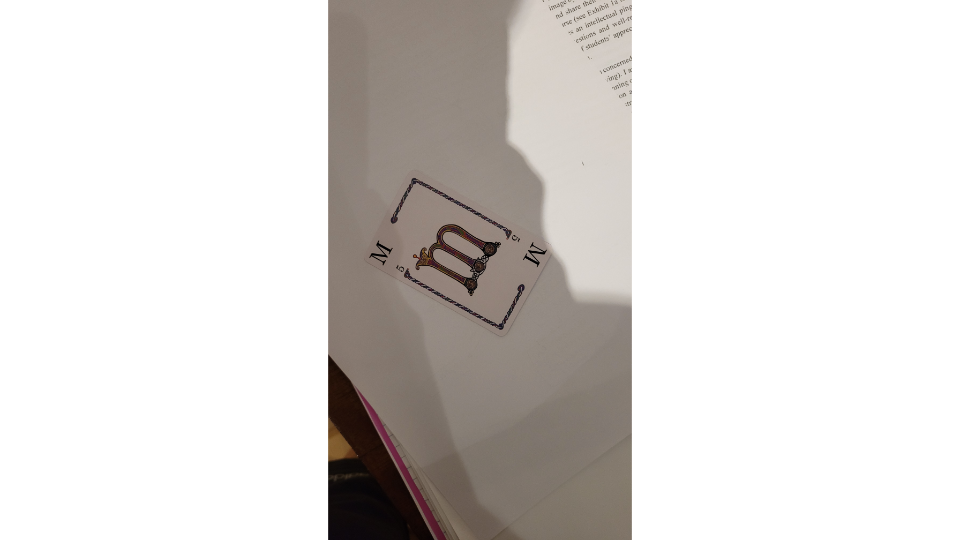M: (362, 166, 555, 339)
